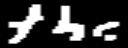the: (0, 0, 128, 48)
